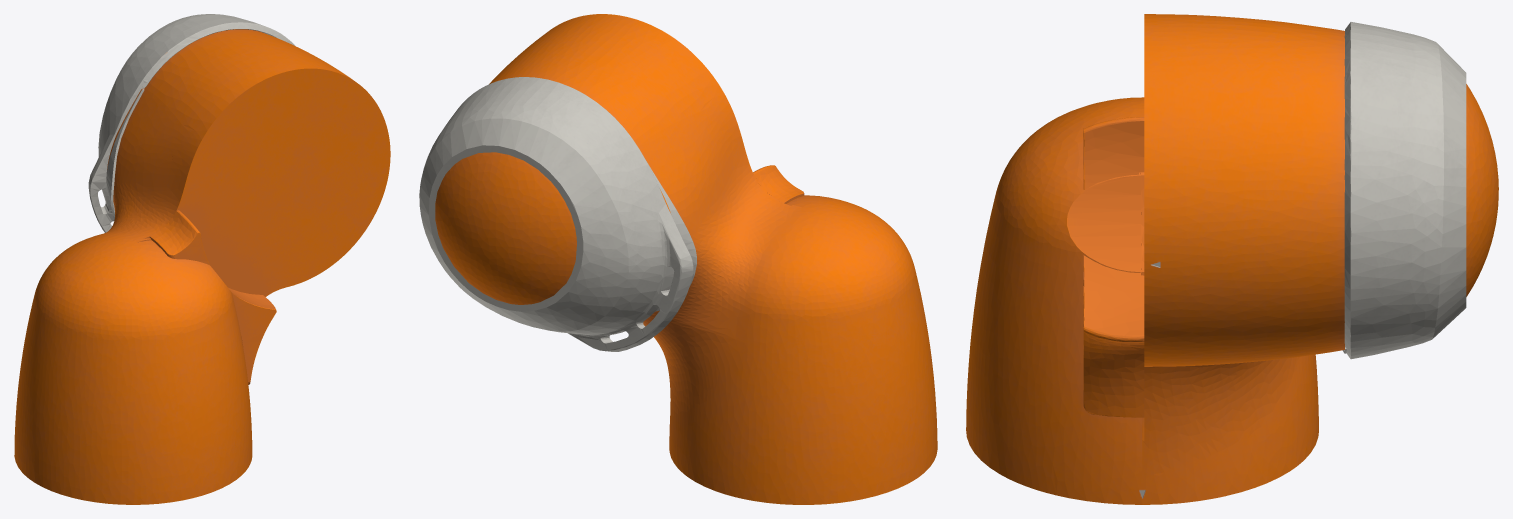
The picture shows the model from 3 angles, left to right: view 1: azimuth 30°, elevation 25°; view 2: azimuth 150°, elevation 25°; view 3: azimuth 270°, elevation 25°; orthographic projection. The views are drawn at different scales.
Parts seen in each view (by area): view 1: link3; view 2: link3; view 3: link3.
Boxes of the visible parts, x1=… form: link3: x1=14, y1=14, x2=390, y2=504; link3: x1=419, y1=14, x2=937, y2=504; link3: x1=966, y1=14, x2=1498, y2=504.
Bounding box in the file's own units: 19.25 × 16.61 × 17.6.
1 material, 1 textured.
